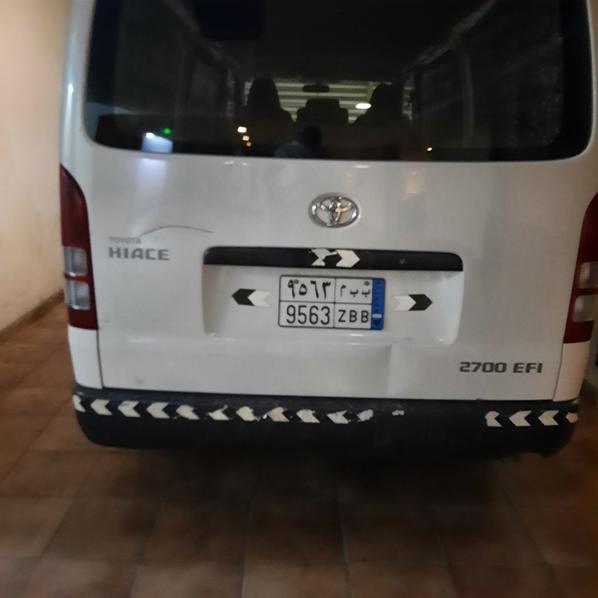numberplate: (278, 275, 386, 332)
